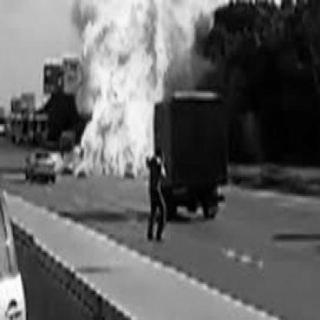Fire: (47, 0, 211, 174)
